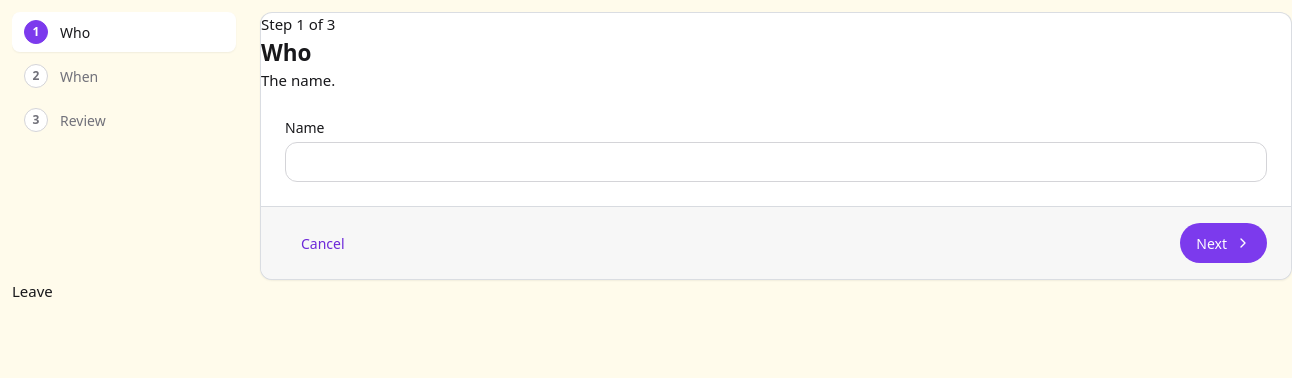
StepForm › moves on with Enter, keeps values when going back, and unlocks visited steps
The image size is (1292, 378).
In the field labelled "Name": (776, 162) [285,142,1267,182], type "Jane"
Then press Enter
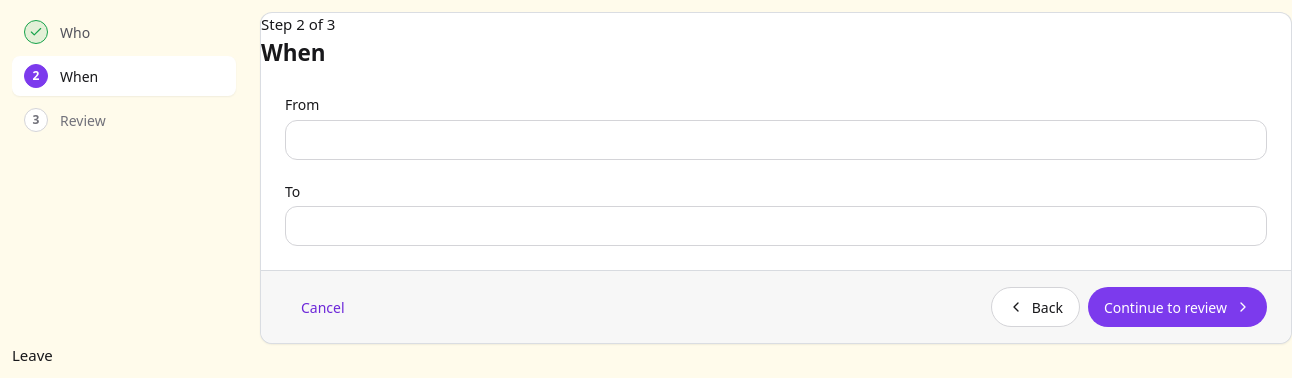
Expected: the button "Who" is enabled, [12,12,236,52]
Result: the heading "When" is shown at [261,36,326,68]
Result: the button "Continue to review" is shown at [1088,287,1267,327]
Click the button "Back": (1035, 307) [991,287,1080,327]
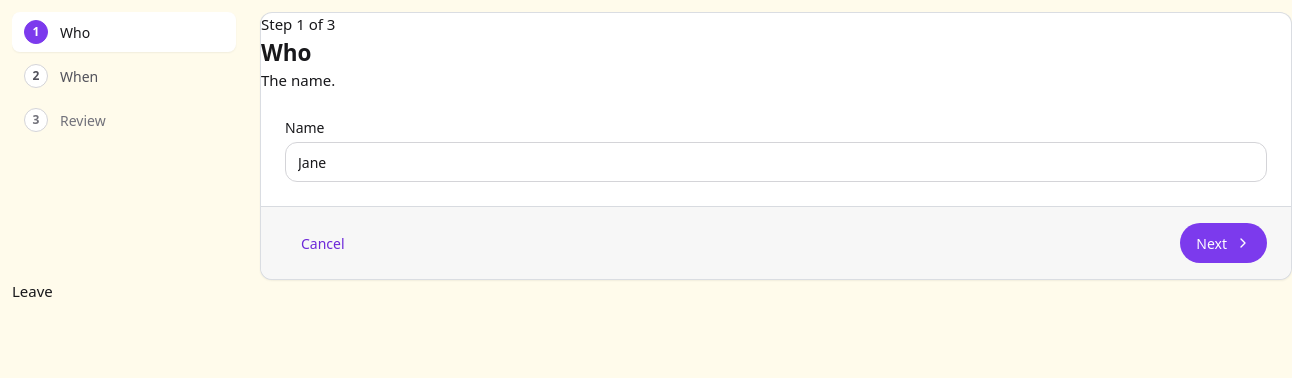
Result: the field labelled "Name" holds "Jane" at [285,142,1267,182]
Click the button "2 When": (124, 76) [12,56,236,96]
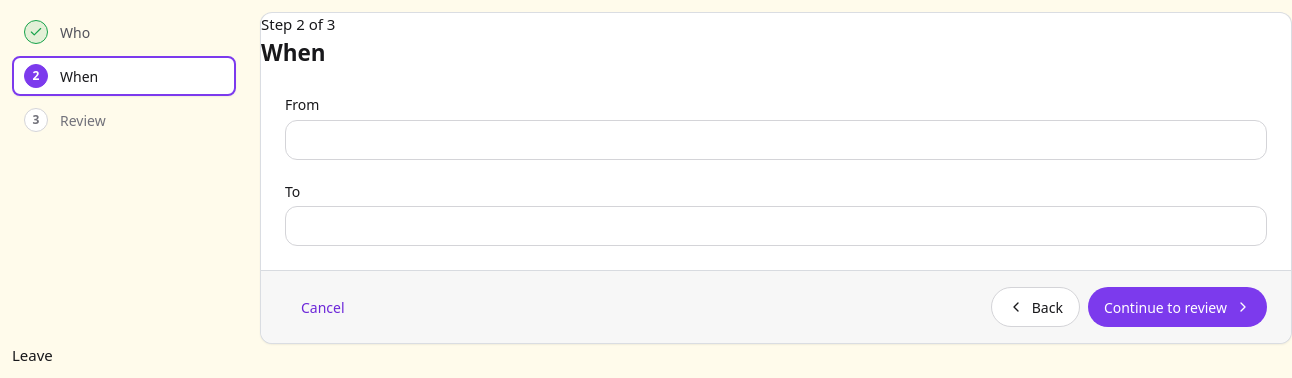
Result: the heading "When" is shown at [261,36,326,68]
